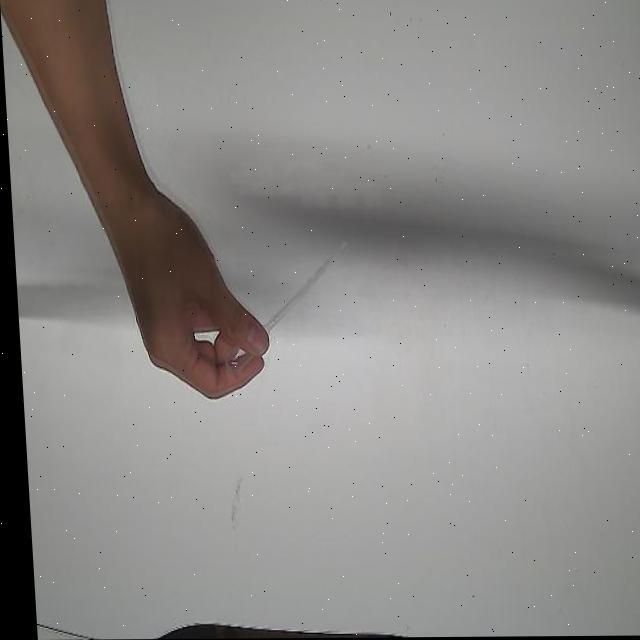Disposable Pasteur Pipette - Sealed: (214, 231, 361, 380)
